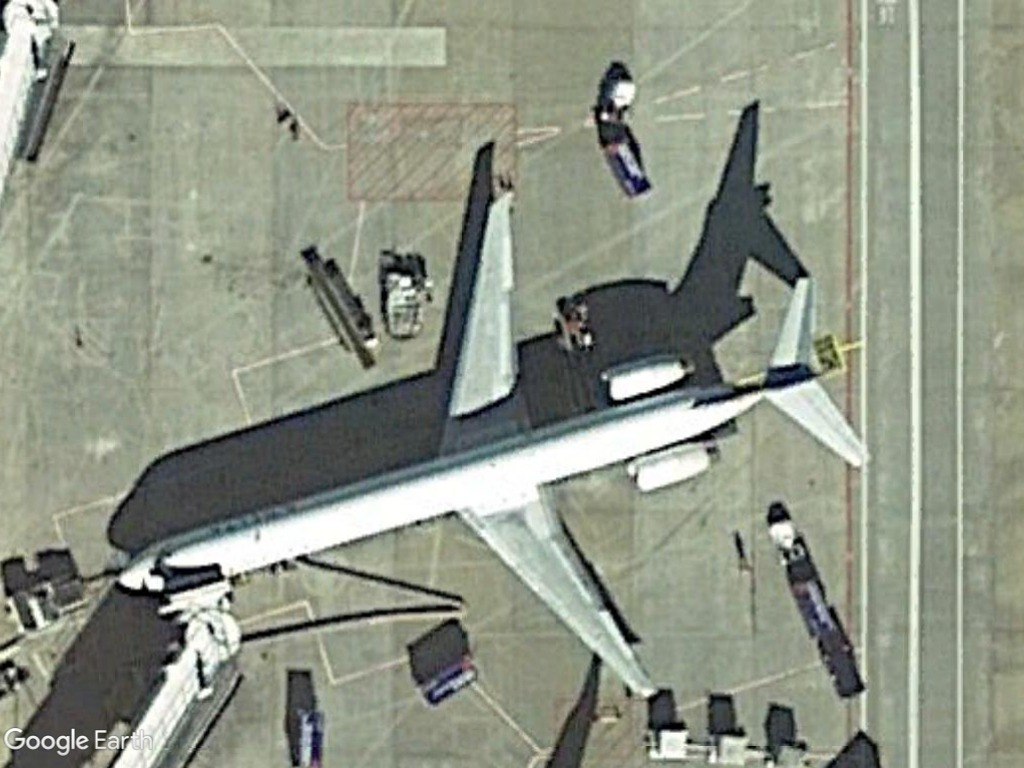chartered: (103, 176, 874, 703)
